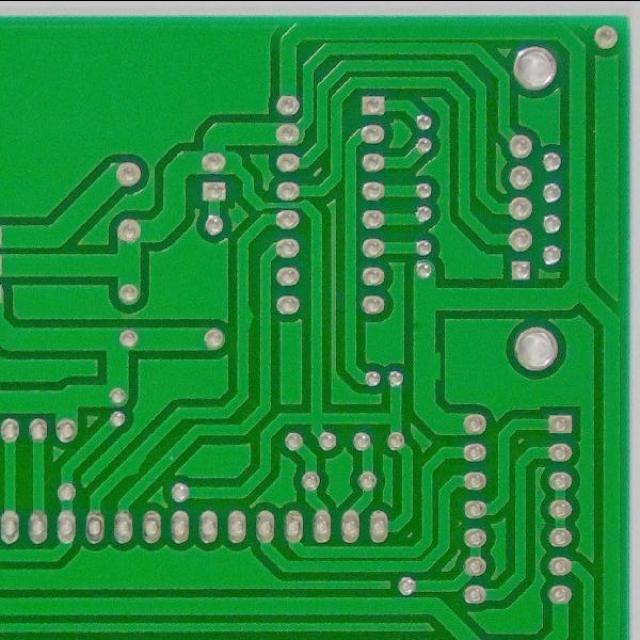Spur: (407, 345, 446, 387), (116, 449, 148, 481), (232, 301, 257, 336)
